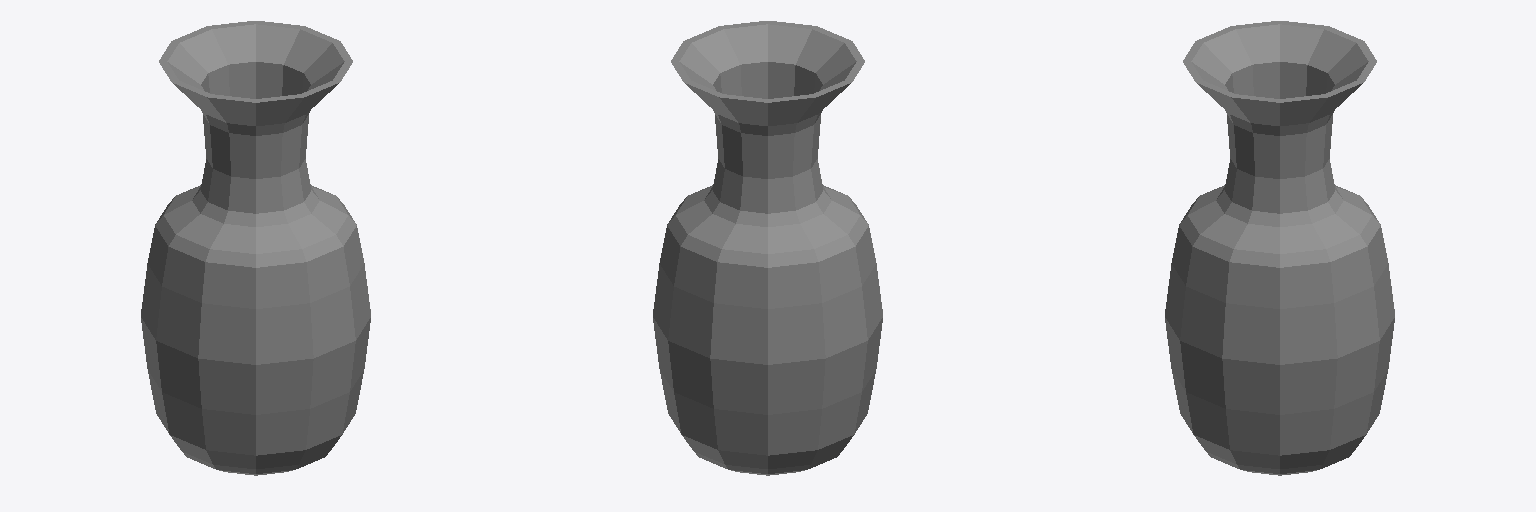
The model's file is vase.obj.
The picture shows the model from 3 angles: view 1: azimuth 30°, elevation 25°; view 2: azimuth 150°, elevation 25°; view 3: azimuth 270°, elevation 25°; orthographic projection.
Parts seen in each view (by area): view 1: Vase; view 2: Vase; view 3: Vase.
Part boxes in pixels (x1,y1,x2,y2): Vase: (141, 21, 370, 475); Vase: (653, 21, 882, 475); Vase: (1165, 21, 1394, 475).
Size of the model in its own units: 58.2 by 108 by 58.2.